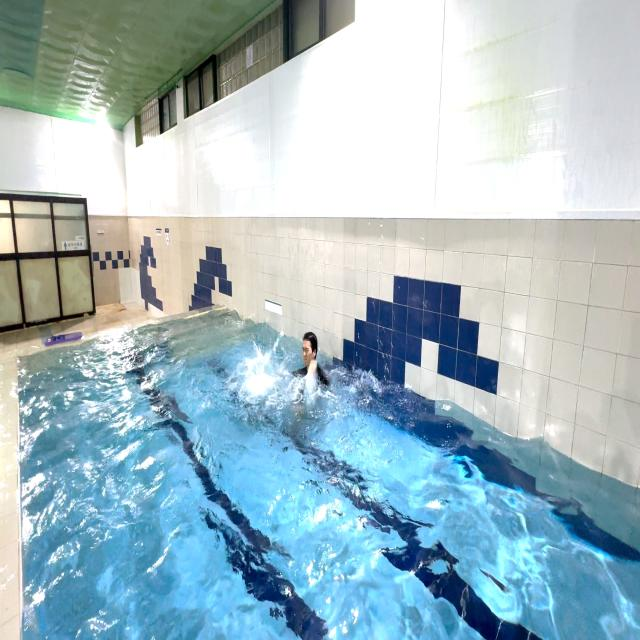Drowning: (254, 322, 334, 403)
